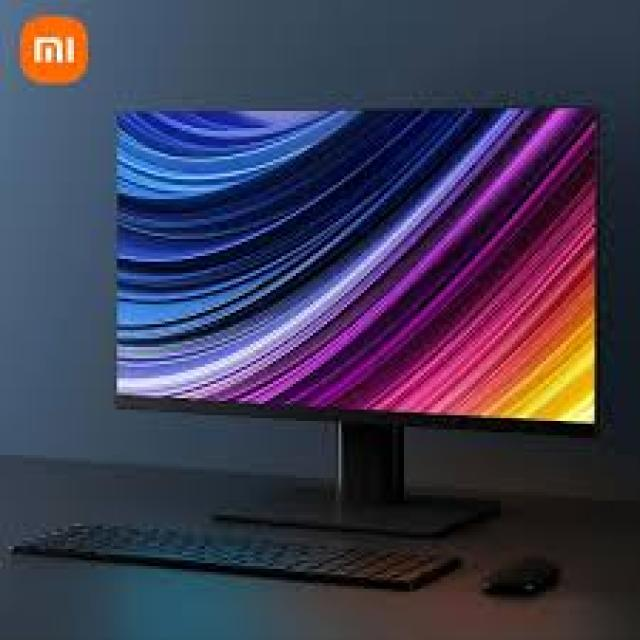monitor: (125, 108, 595, 430)
